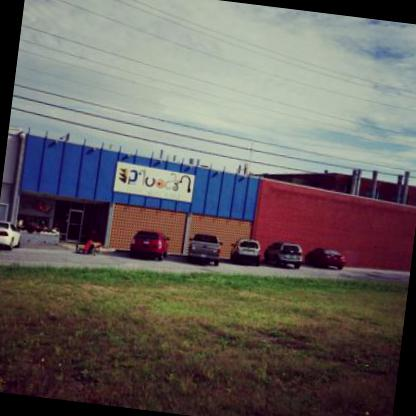car: (262, 240, 306, 269), (184, 233, 222, 264), (129, 230, 167, 260), (306, 244, 347, 268), (230, 236, 263, 262), (0, 222, 24, 250)
